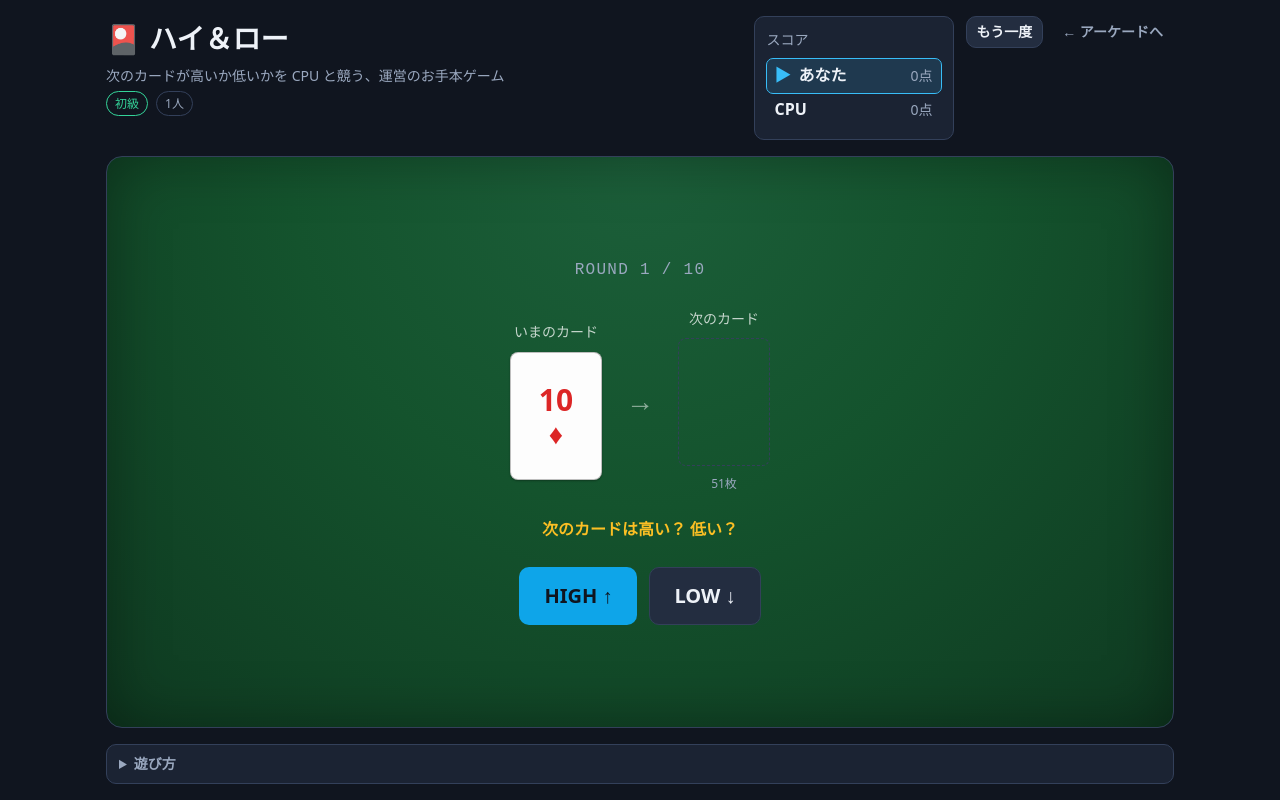
Scenario: ExampleGame › 判定中は HIGH / LOW を押せない（連打で先に進めない）
This screenshot has width=1280, height=800.
Click the button "HIGH ↑" at (578, 596), box [519, 567, 638, 625]
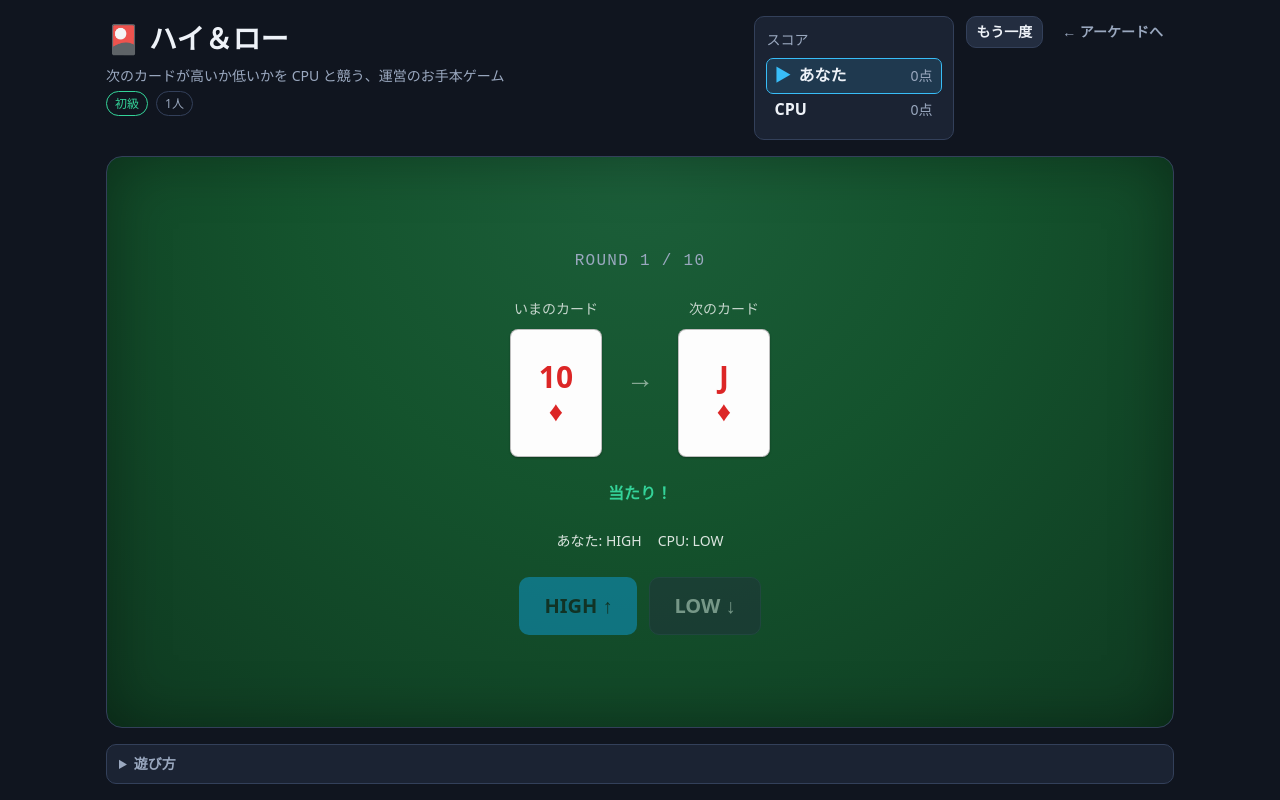
expect the button "HIGH ↑" is disabled: met, box [519, 577, 638, 635]
expect the button "LOW ↓" is disabled: met, box [649, 577, 761, 635]
